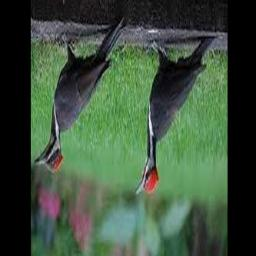Woodpecker: (34, 18, 126, 174), (135, 38, 215, 196)
